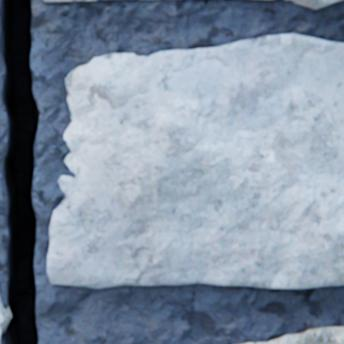brick: (47, 35, 343, 288), (242, 326, 343, 343), (283, 0, 343, 10), (0, 299, 7, 342), (44, 0, 156, 2)
crack: (0, 0, 40, 343)
